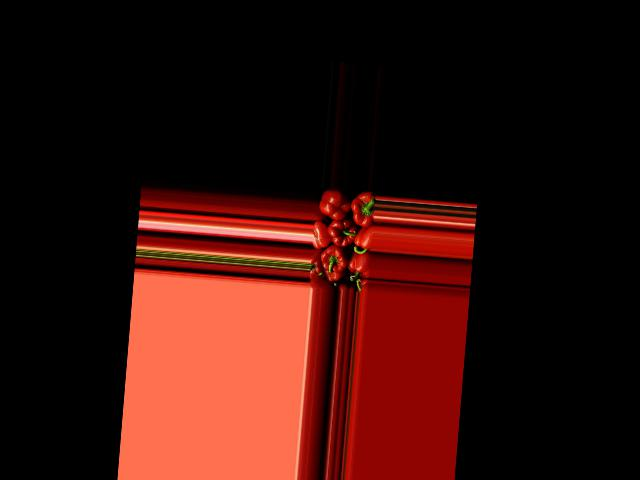bell_pepper: (312, 219, 330, 248)
